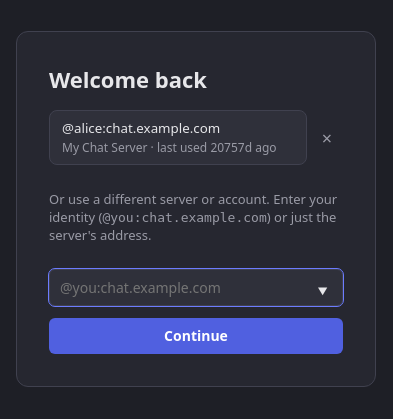
Scenario: AuthPage - remembered accounts › shows the usual error and stays put when a remembered server is gone
Click the text "@alice:chat.example.com" at (141, 128), box 62,119 -> 220,137
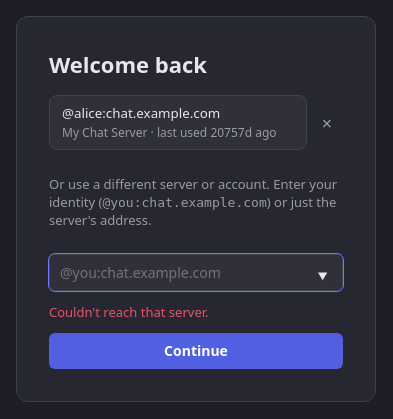
Expected: the heading "Welcome back" is shown, 49,49 -> 207,79
Expected: the text "Couldn't reach that server." is shown, 49,303 -> 208,321
